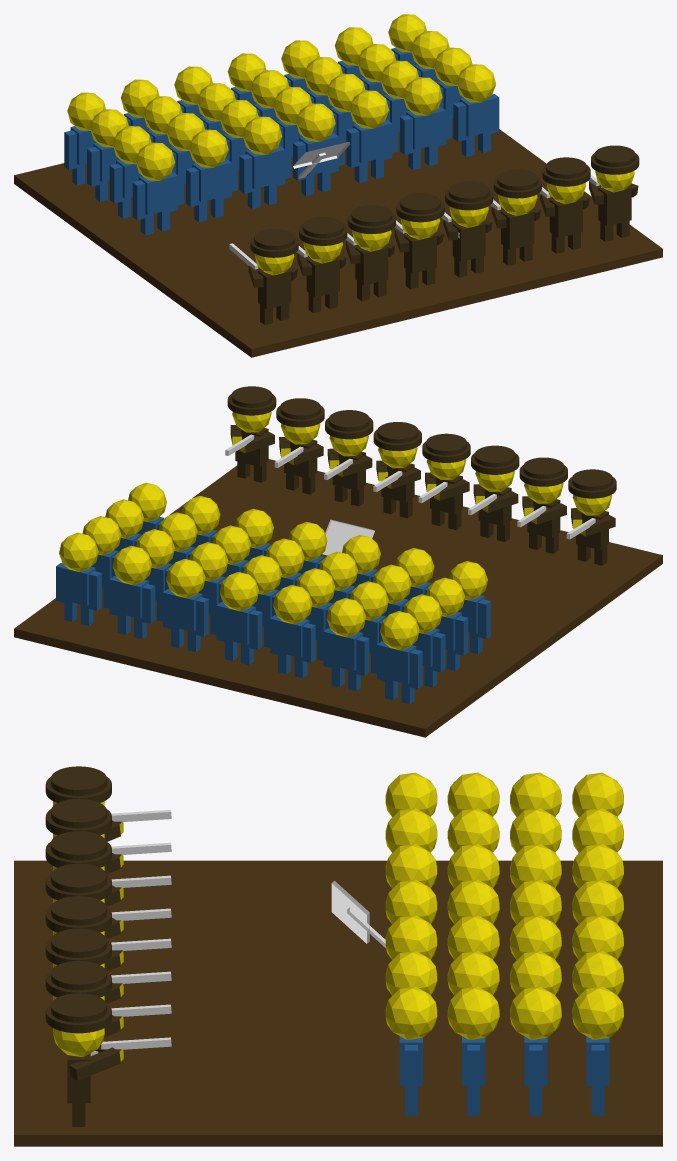
File: war.glb
3 renders of one model, top to bottom at view 1: azimuth 30°, elevation 25°; view 2: azimuth 150°, elevation 25°; view 3: azimuth 270°, elevation 25°, orthographic. The views are drawn at different scales.
Parts seen in each view (by area): view 1: Worker, Base, Soldier, Sign; view 2: Worker, Base, Soldier, Sign; view 3: Base, Worker, Soldier, Sign.
Boxes of the visible parts, <box> form: Worker: <box>64,14,499,235</box>; Base: <box>14,118,662,357</box>; Soldier: <box>229,145,639,324</box>; Sign: <box>293,142,350,178</box>; Worker: <box>56,482,490,704</box>; Base: <box>14,459,662,737</box>; Soldier: <box>225,386,616,565</box>; Sign: <box>322,519,374,555</box>; Base: <box>14,860,662,1146</box>; Worker: <box>385,772,623,1115</box>; Soldier: <box>45,766,171,1126</box>; Sign: <box>331,880,385,947</box>.
Bounding box in the file's own units: 10 × 2.22 × 10.
